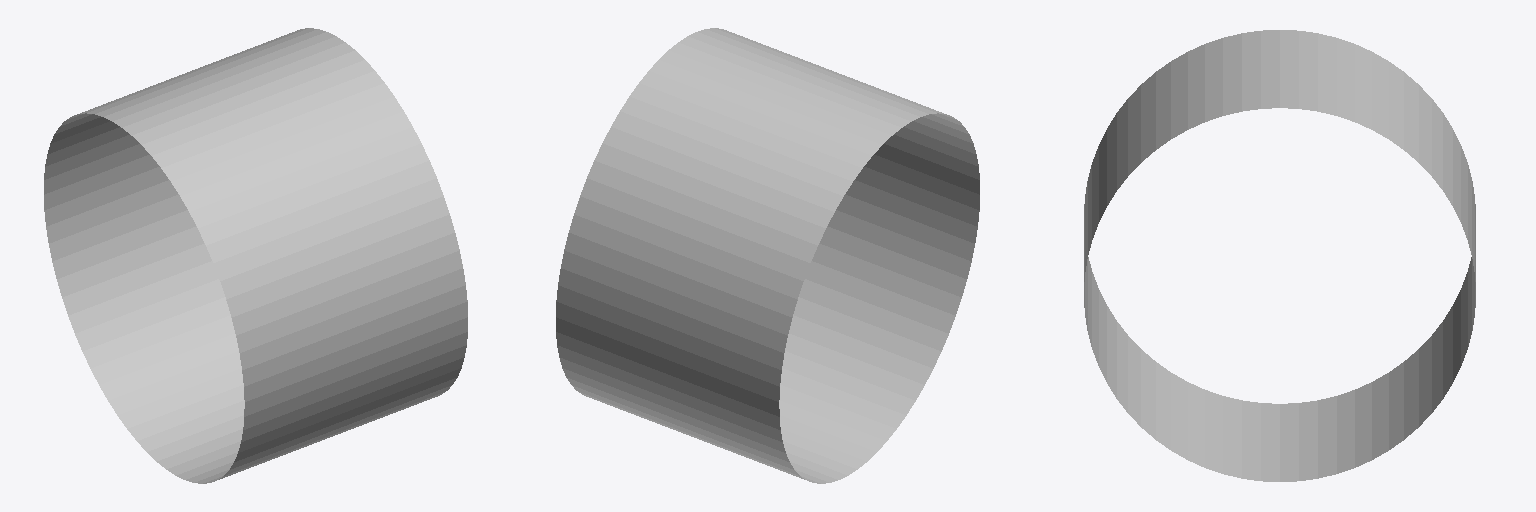
Rendered from drumsetV4_BigDrumBody_Keyframe.obj.
3 renders of one model, left to right at view 1: azimuth 30°, elevation 25°; view 2: azimuth 150°, elevation 25°; view 3: azimuth 270°, elevation 25°, orthographic.
Visible parts, largest first — view 1: drumsetV4_BigDrumBody_Cylinder.012; view 2: drumsetV4_BigDrumBody_Cylinder.012; view 3: drumsetV4_BigDrumBody_Cylinder.012.
Boxes of the visible parts, <box> form: drumsetV4_BigDrumBody_Cylinder.012: <box>44,28,467,483</box>; drumsetV4_BigDrumBody_Cylinder.012: <box>556,28,979,483</box>; drumsetV4_BigDrumBody_Cylinder.012: <box>1084,30,1475,481</box>.
Size of the model in its own units: 1.58 by 2.16 by 2.